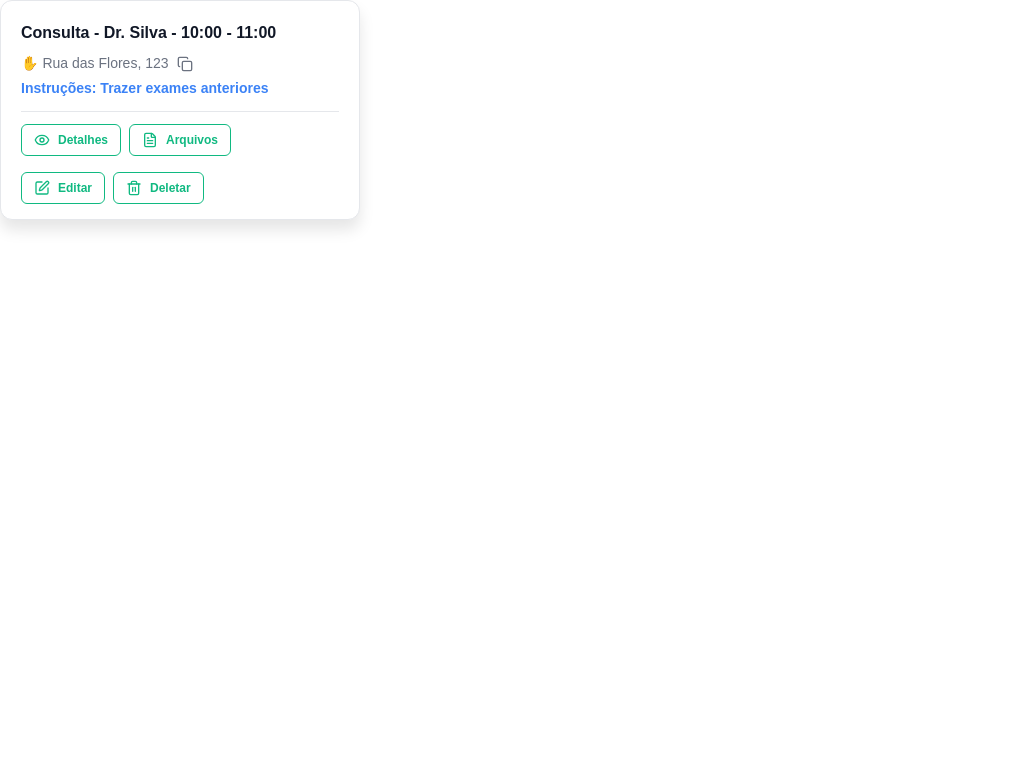
EventCard › opens files modal when files button is clicked
Click the button "Arquivos" at (180, 140), box top-left (129, 124), bottom-right (231, 156)
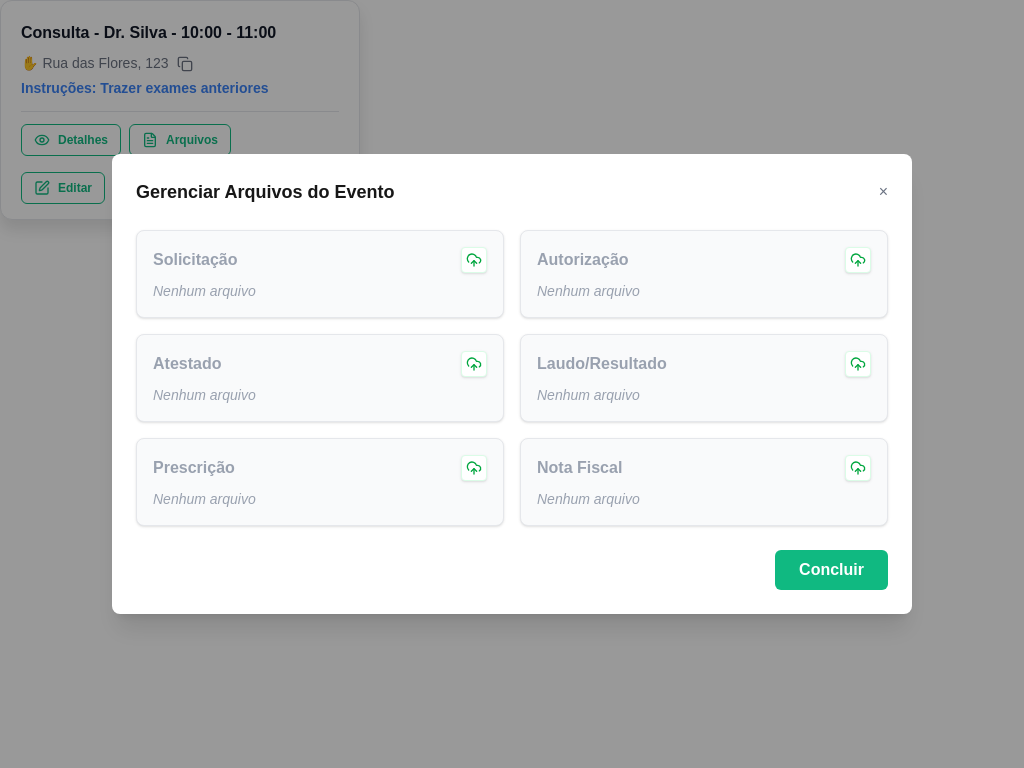
expect the heading "Gerenciar Arquivos do Evento" is shown: met, box top-left (136, 178), bottom-right (394, 206)
